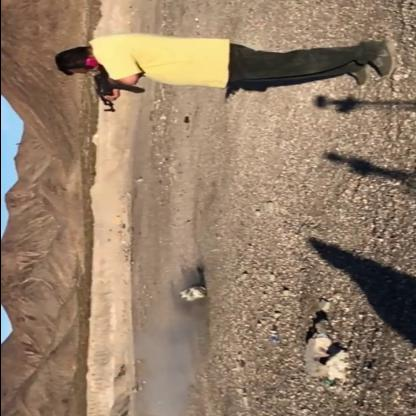long weapon: (88, 60, 154, 118)
